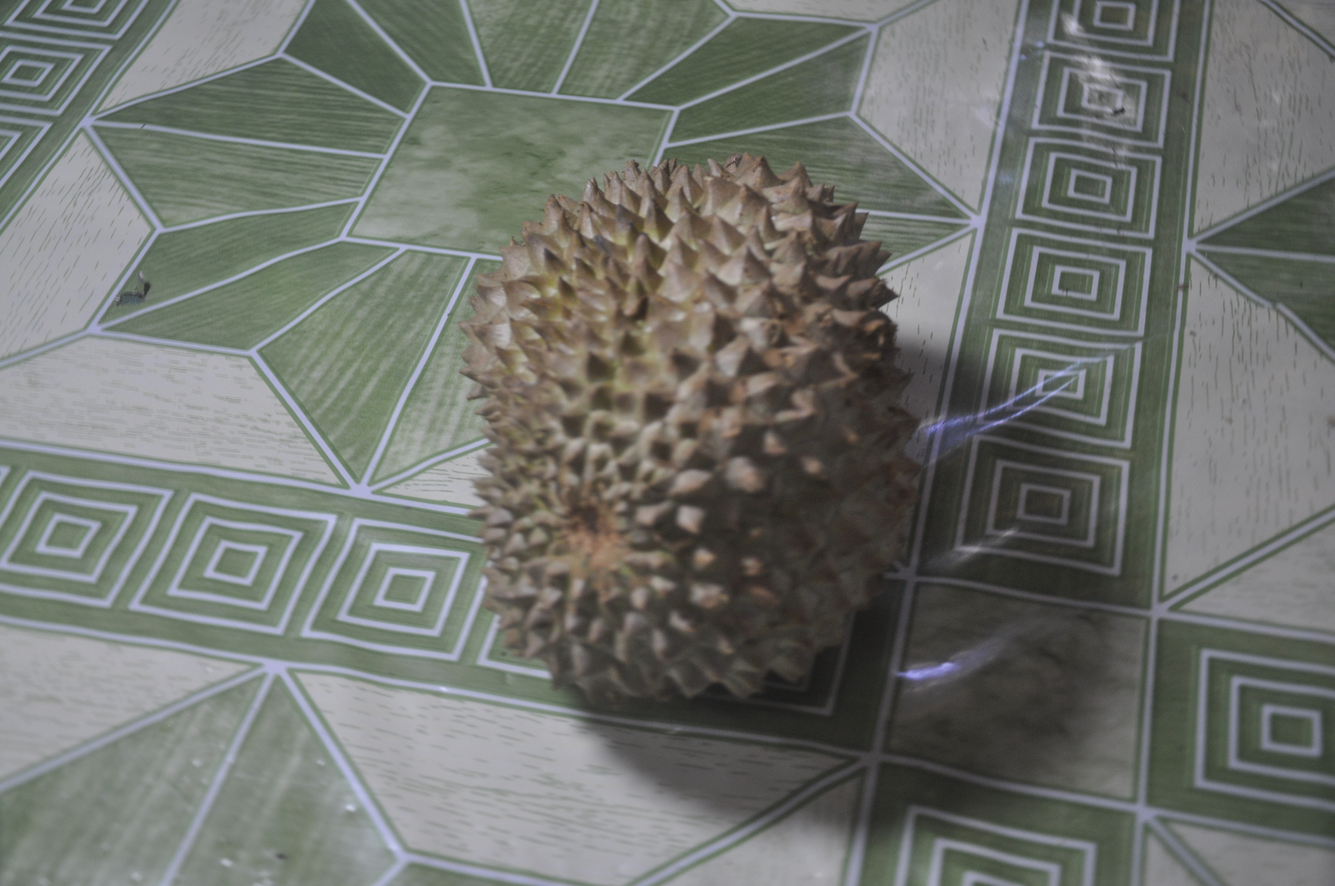mature: (462, 155, 918, 701)
